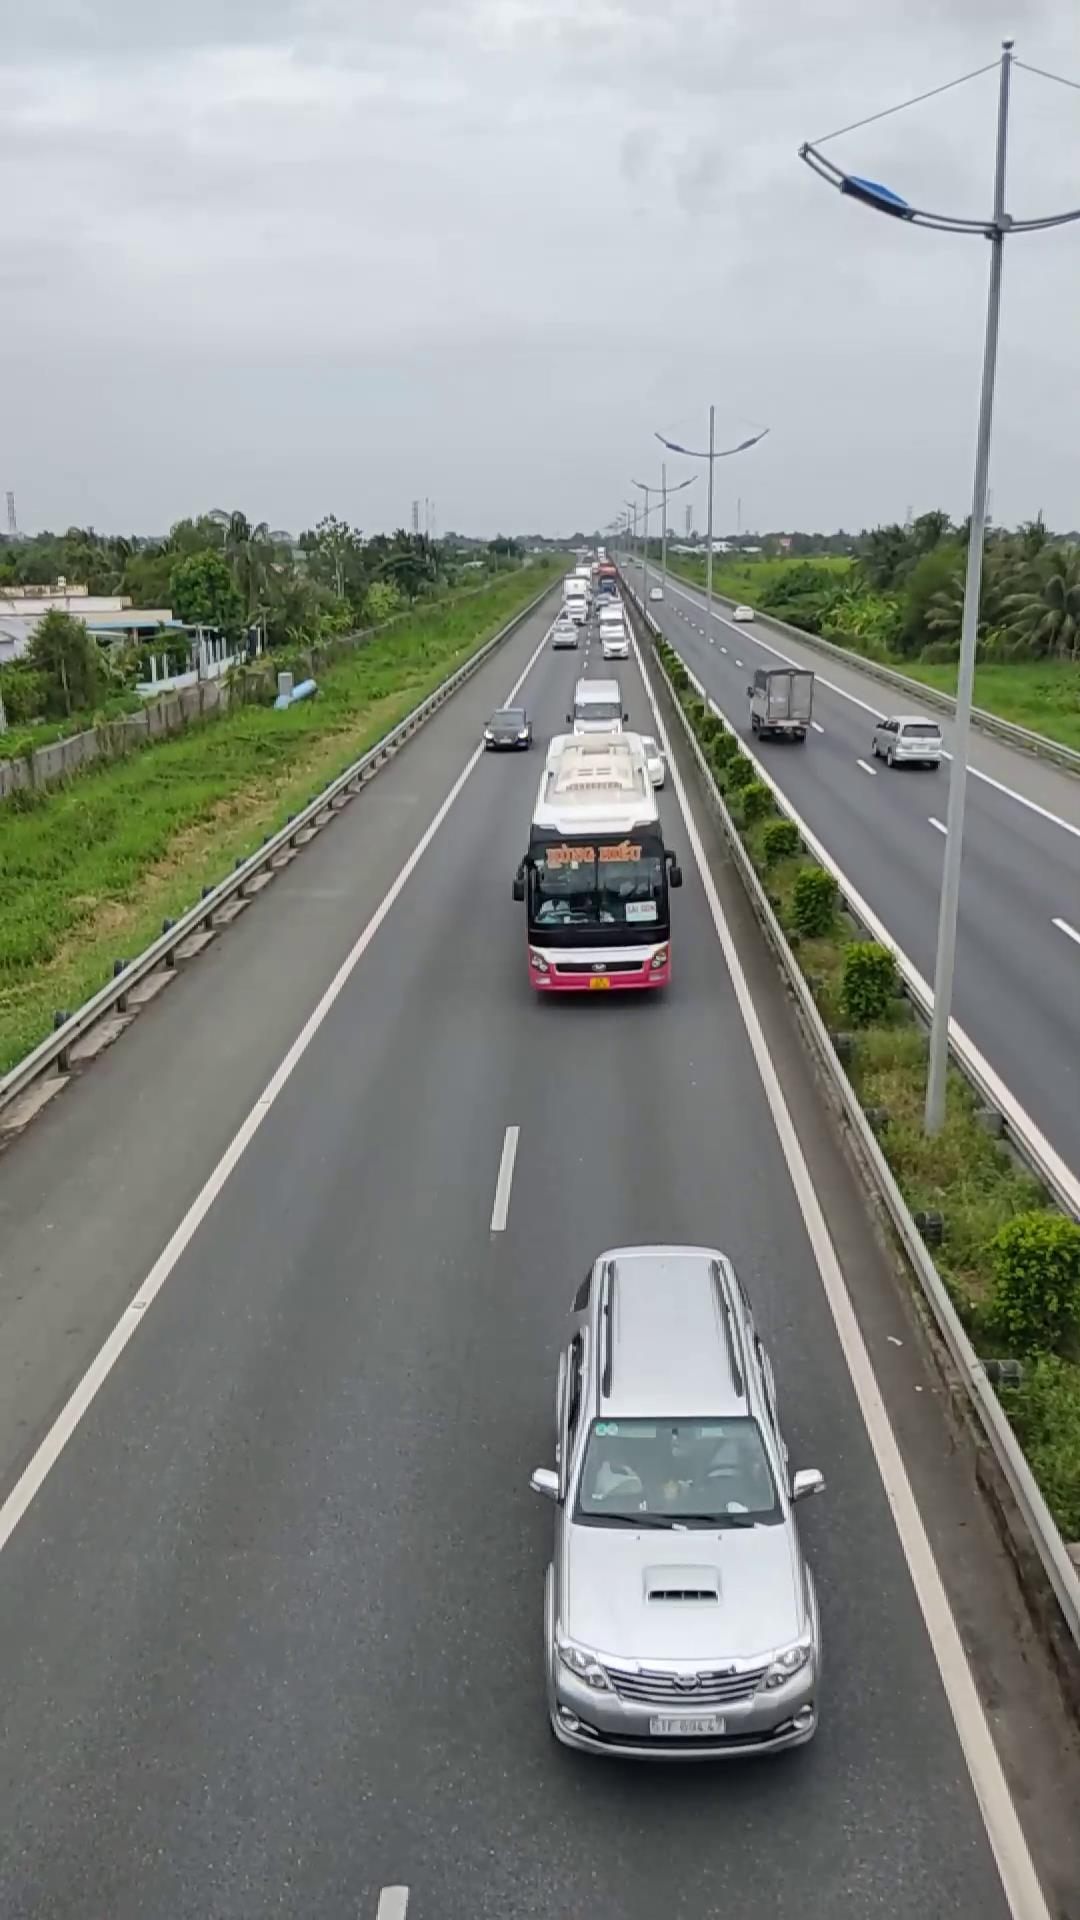bus: (513, 733, 680, 998)
car: (530, 1241, 825, 1758)
truck: (745, 661, 815, 740)
